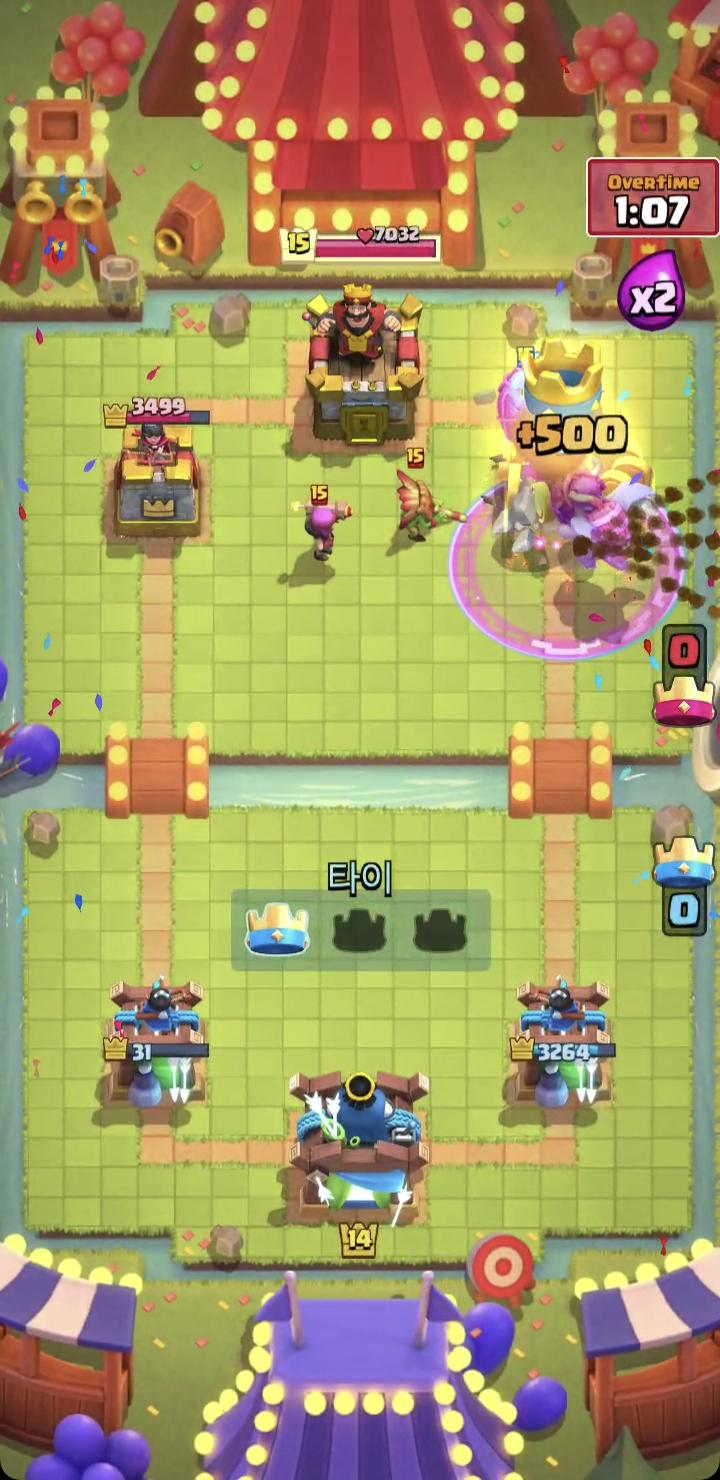ally_balloon: (496, 344, 605, 486)
ally_infernodragon: (551, 459, 659, 572)
enemy_dart_goblin: (396, 446, 469, 544)
enemy_firecracker: (290, 482, 355, 563)
